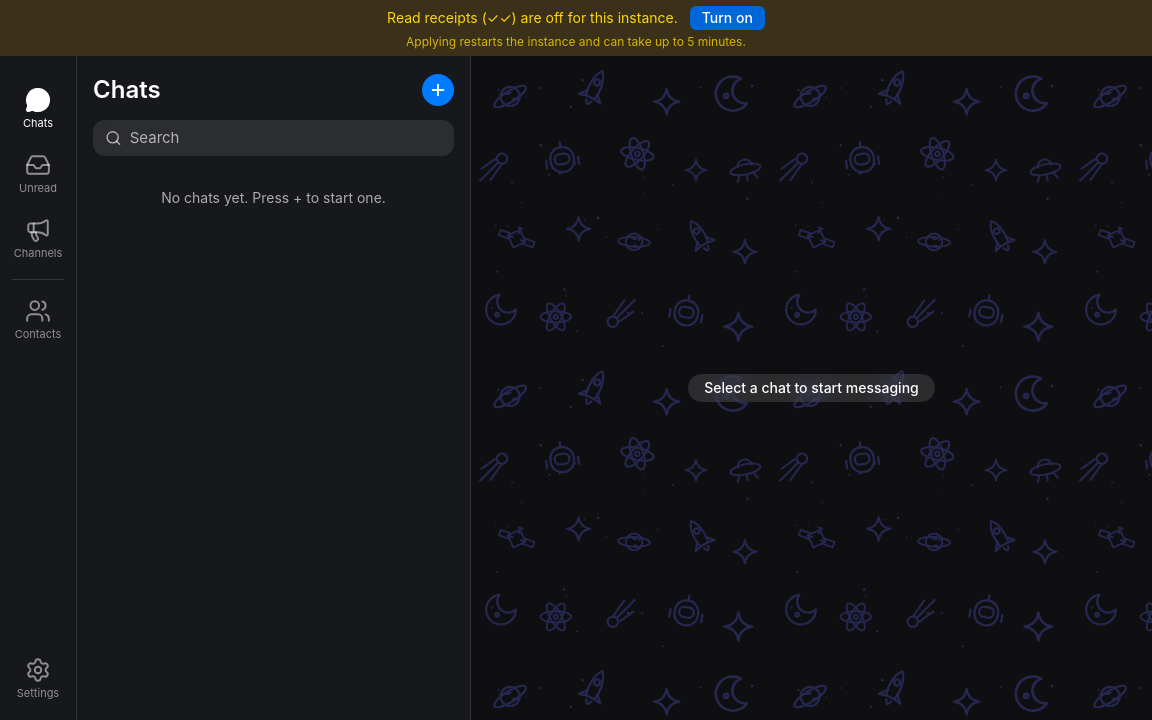
Test case: new contact › shows an error and creates nothing when the number is not on Telegram
Click the button named "new chat" at (438, 90), box [422, 74, 454, 106]
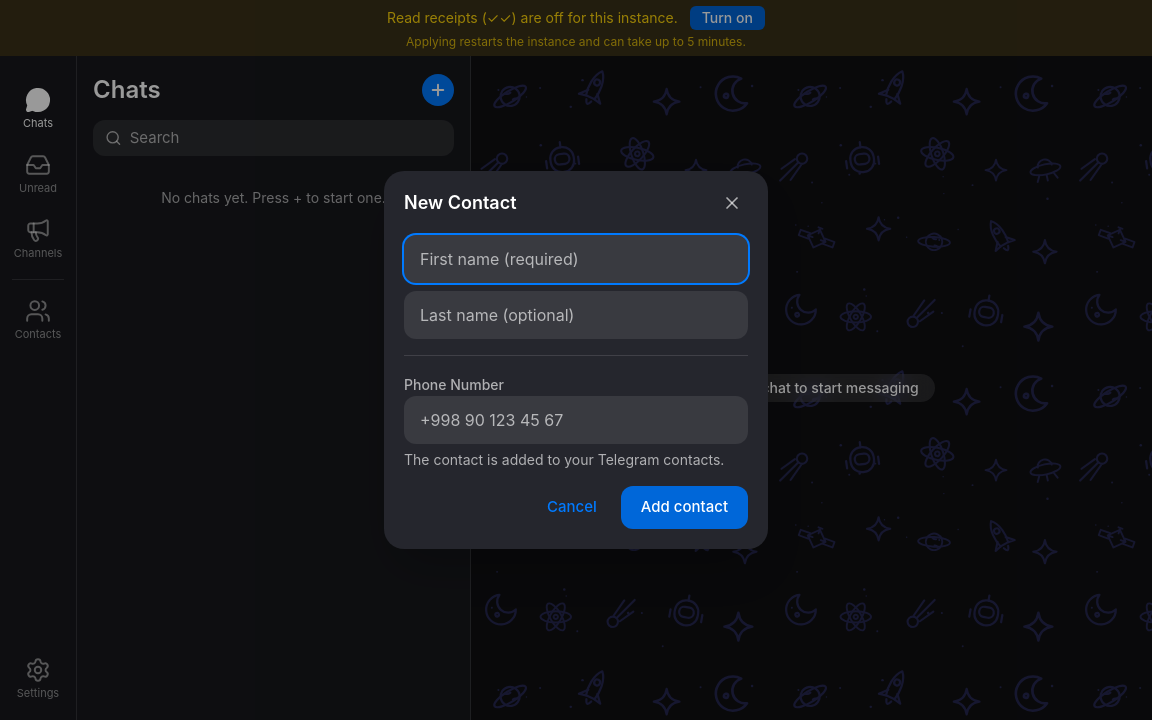
Type "Ghost" into the field labelled "First name" at (576, 259), box [404, 235, 748, 283]
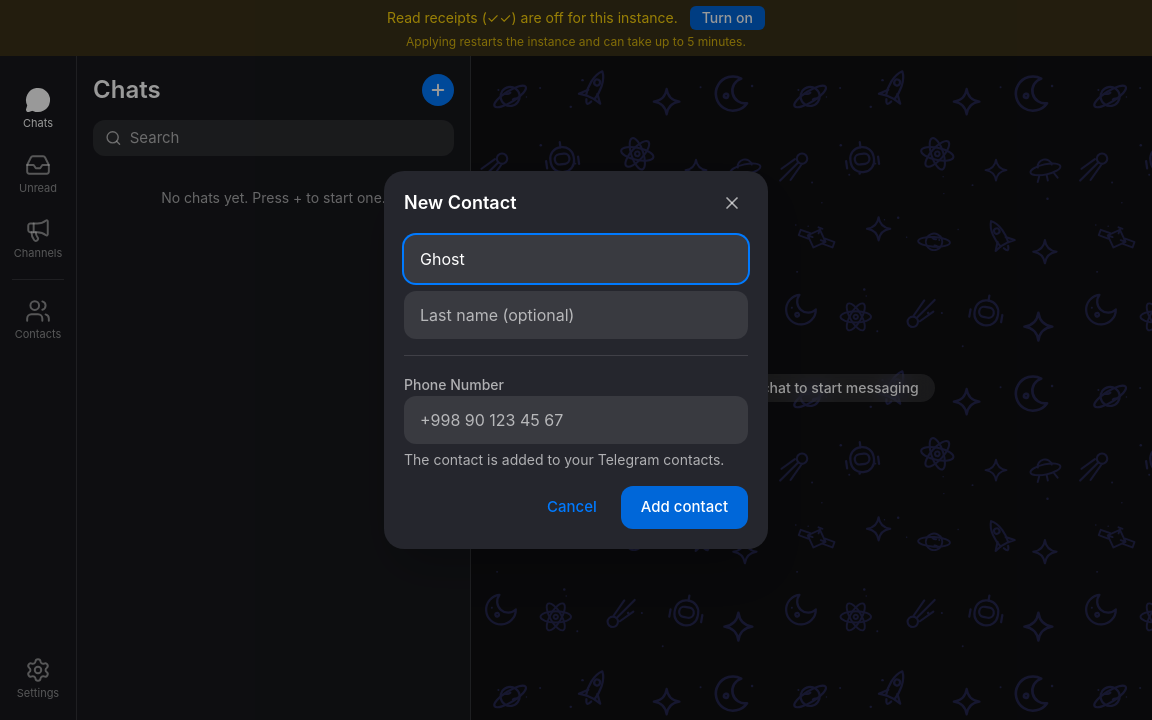
Type "998901112233" into the field labelled "Phone Number" at (576, 420), box [404, 396, 748, 444]
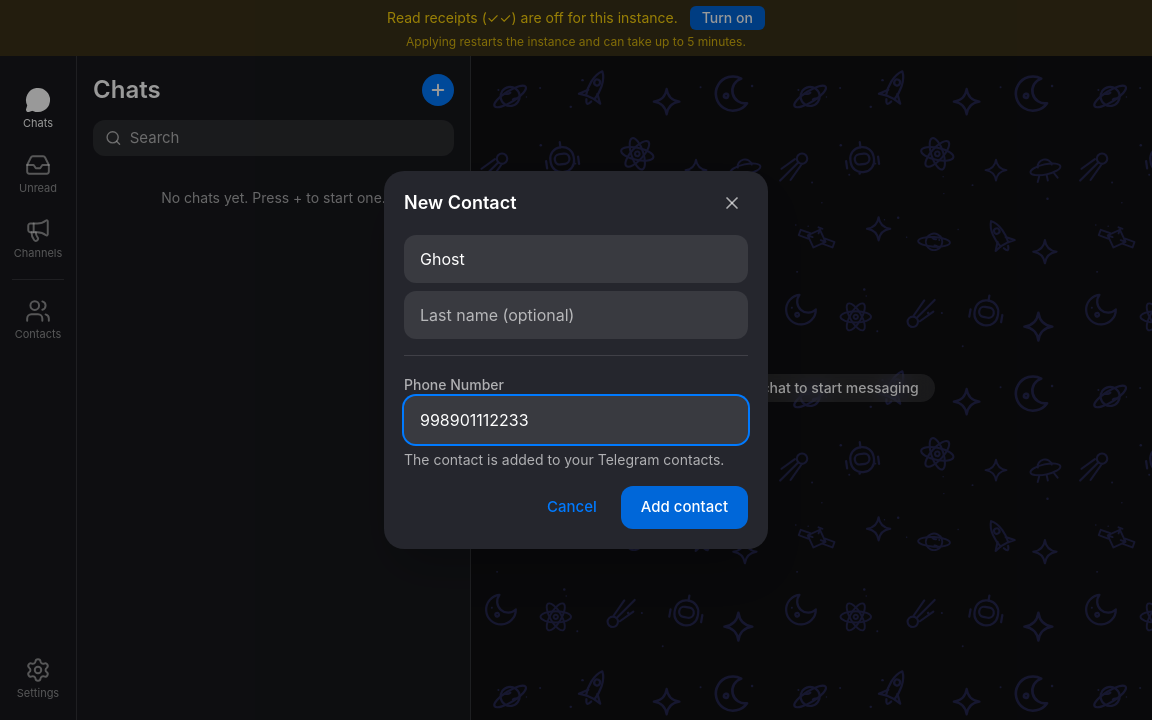
Click the button "Add contact" at (684, 508), box [621, 486, 748, 529]
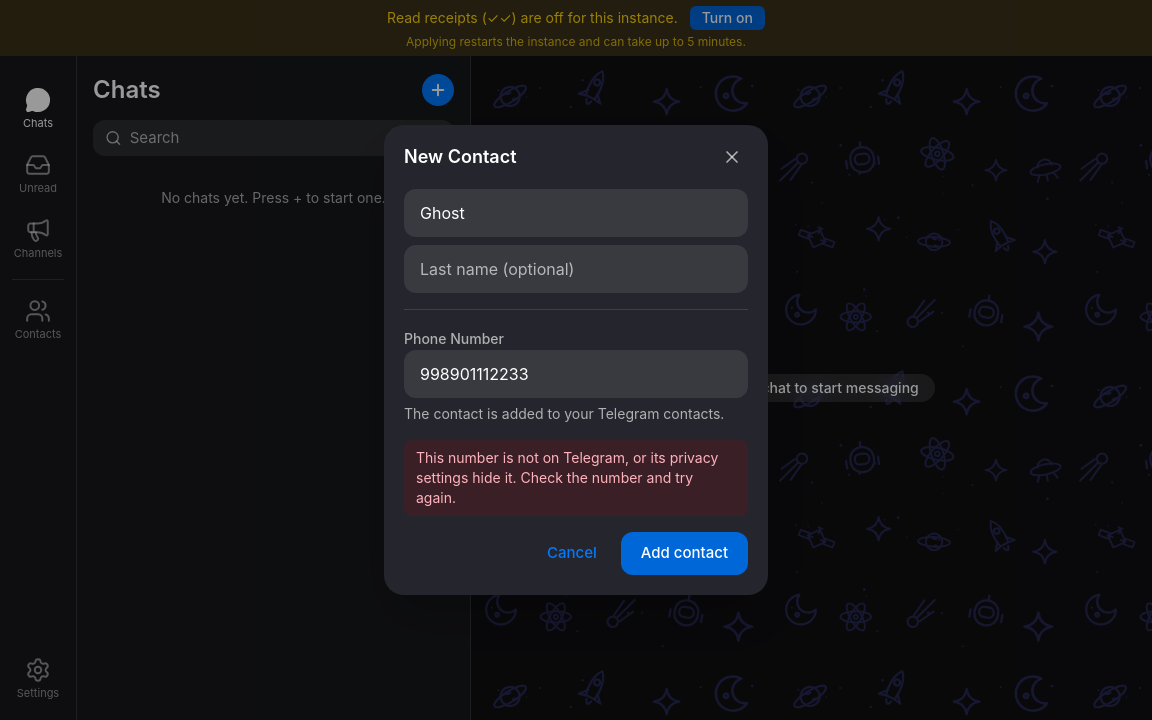
Now the 2nd message shows "not on Telegram", box [416, 449, 718, 506]
